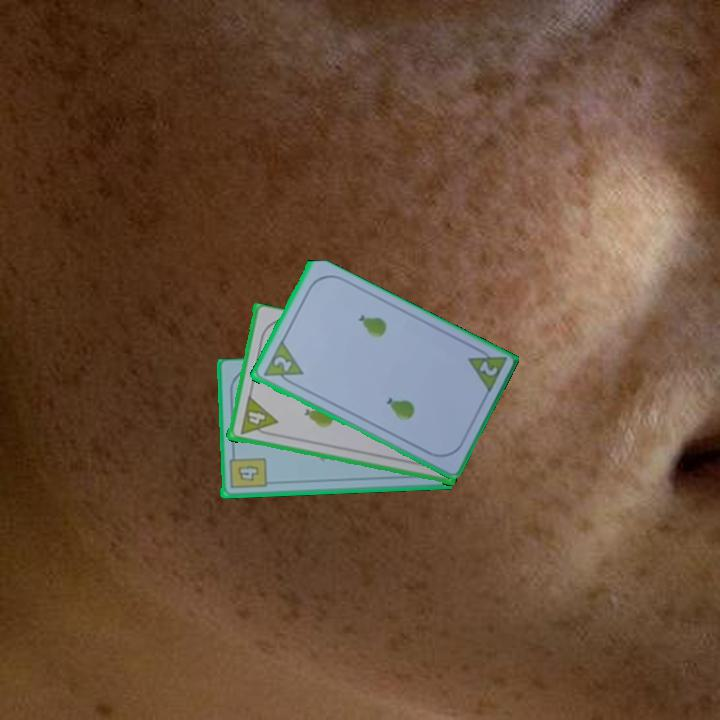2p: (259, 339, 306, 390), (475, 357, 500, 379)
4b: (226, 449, 269, 492)
4p: (236, 394, 279, 439)
